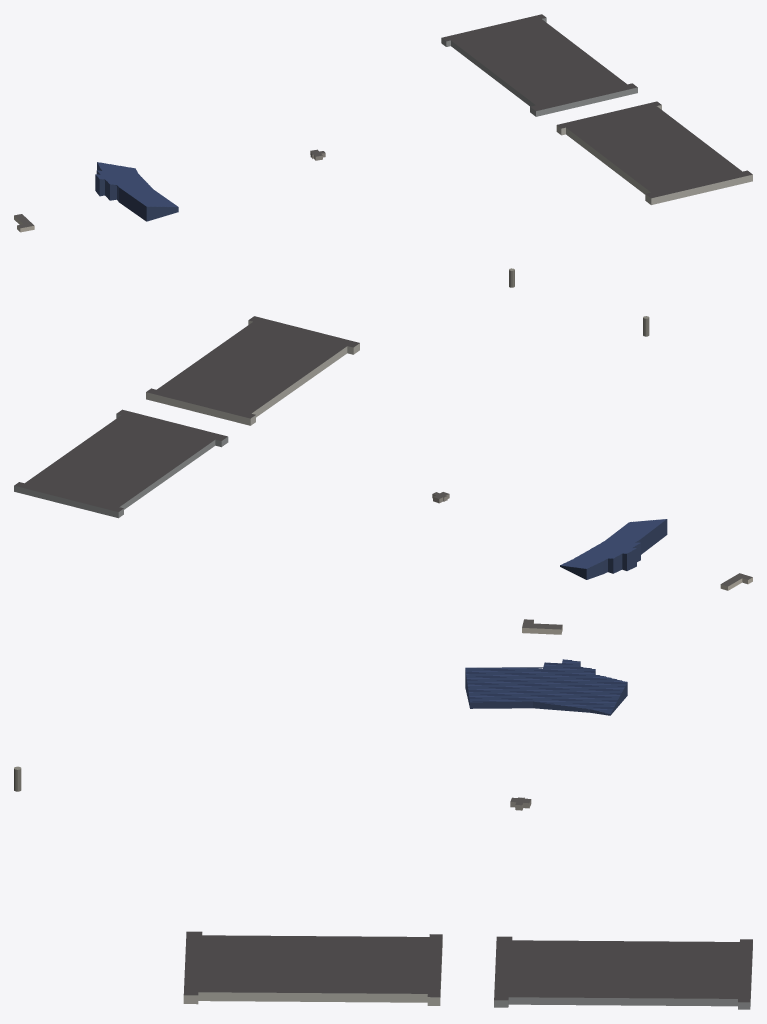
File: scenery.glb
3 views of the same model, one above another, from view 1: azimuth 30°, elevation 25°; view 2: azimuth 150°, elevation 25°; view 3: azimuth 270°, elevation 25° (orthographic). The views are drawn at different scales.
Visible parts, largest first — view 1: chunk_16_15, chunk_16_14, chunk_14_14; view 2: chunk_16_15, chunk_16_14, chunk_14_14; view 3: chunk_16_15, chunk_16_14, chunk_14_14.
Boxes of the visible parts, x1,y1,x2,y2 form: chunk_16_15: [556, 101, 752, 204]; chunk_16_14: [441, 14, 637, 116]; chunk_14_14: [95, 162, 178, 221]; chunk_16_15: [146, 316, 359, 425]; chunk_16_14: [14, 409, 228, 518]; chunk_14_14: [560, 519, 667, 579]; chunk_16_15: [183, 931, 442, 1005]; chunk_16_14: [494, 936, 752, 1009]; chunk_14_14: [465, 659, 627, 715].
Bounding box in the file's own units: 1173 × 61.81 × 951.
